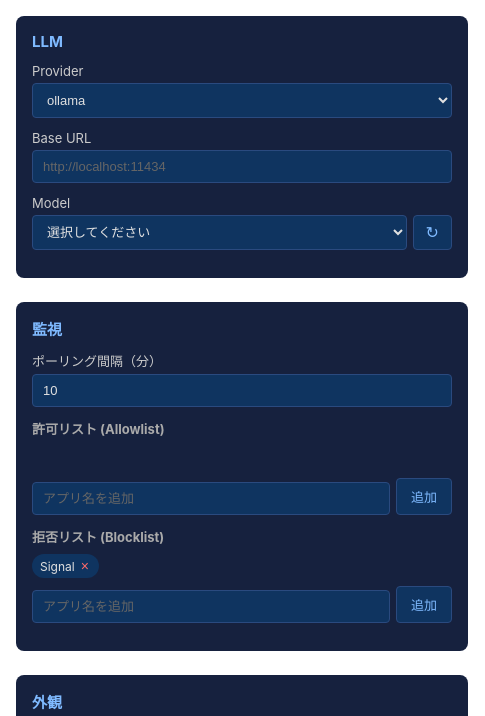
Test: SettingsApp › プロバイダ切り替え › Claude選択時にAPI Key環境変数名とModelが表示される
Select "claude" in the dropdown showing "ollama" at {"x": 242, "y": 100}, box [32,83,452,118]
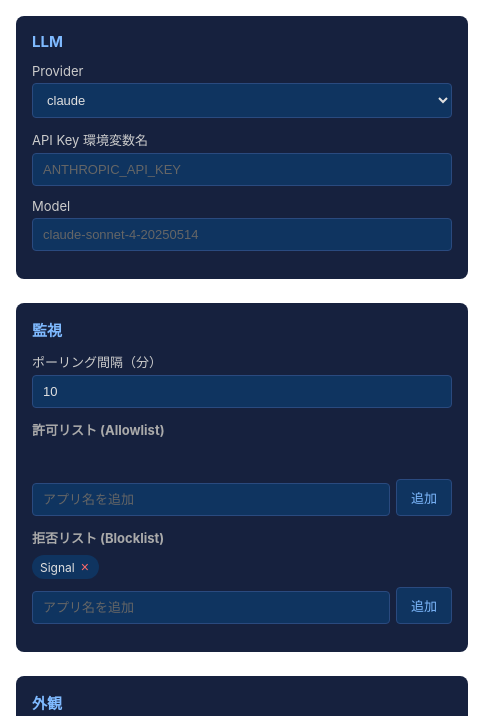
expect the field with placeholder "ANTHROPIC_API_KEY" is shown: met, box [32,153,452,186]
expect the field with placeholder "claude-sonnet-4-20250514" is shown: met, box [32,218,452,251]
